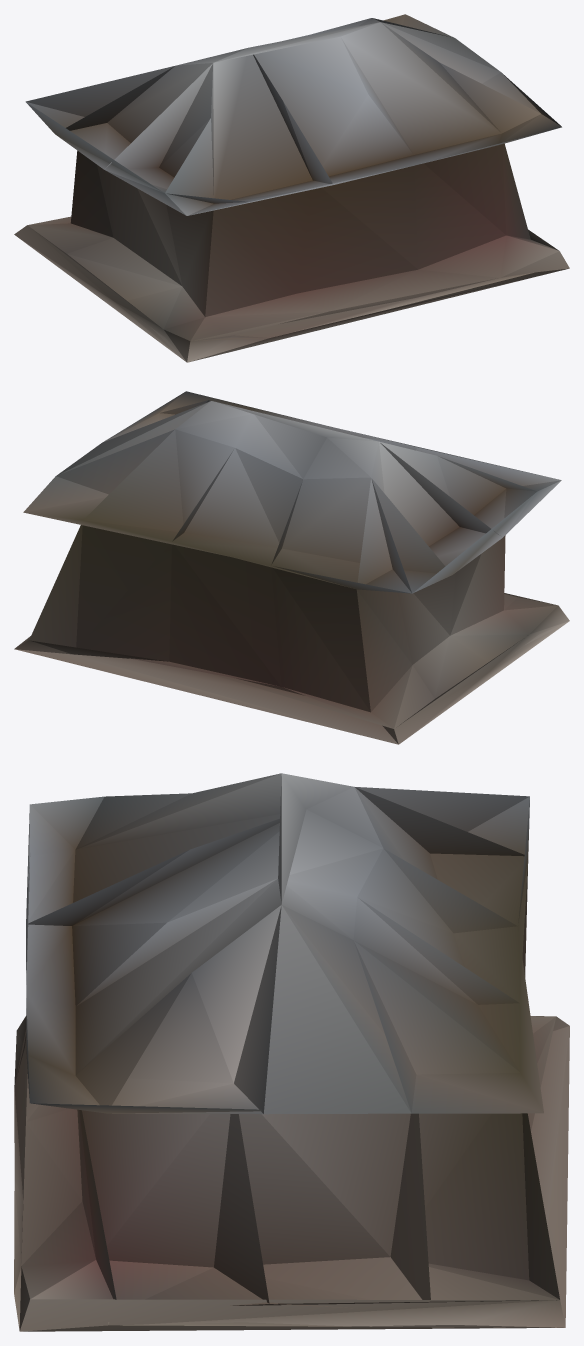
File: pavilion_lod2.glb
The picture shows the model from 3 angles, top to bottom: view 1: azimuth 30°, elevation 25°; view 2: azimuth 150°, elevation 25°; view 3: azimuth 270°, elevation 25°; orthographic projection. The views are drawn at different scales.
Parts seen in each view (by area): view 1: geometry_0; view 2: geometry_0; view 3: geometry_0.
Part boxes in pixels (bbox=[...]): geometry_0: bbox=[14, 14, 569, 362]; geometry_0: bbox=[14, 391, 569, 744]; geometry_0: bbox=[14, 773, 569, 1331].
Bounding box in the file's own units: 0.9029 × 0.4608 × 0.6778.
